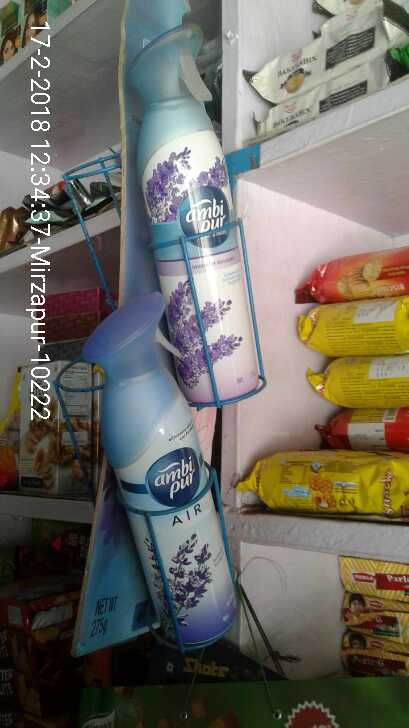ambipure: (124, 19, 276, 407), (80, 286, 243, 644)
